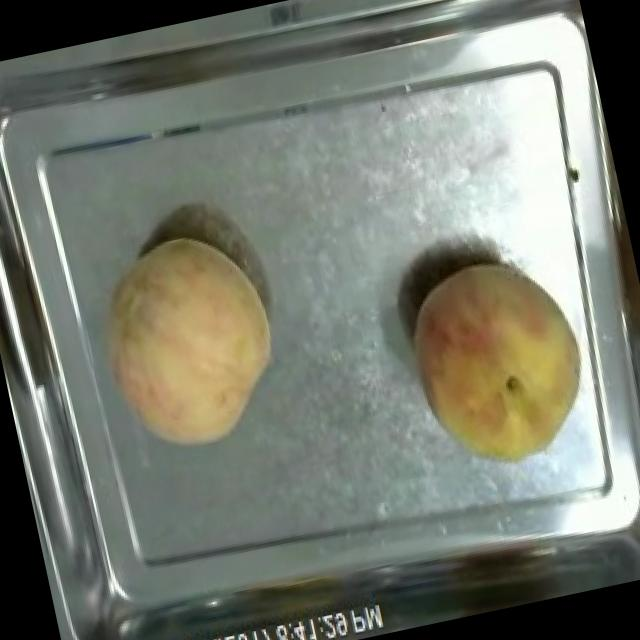Fruit: (69, 214, 302, 476), (388, 235, 611, 486)
